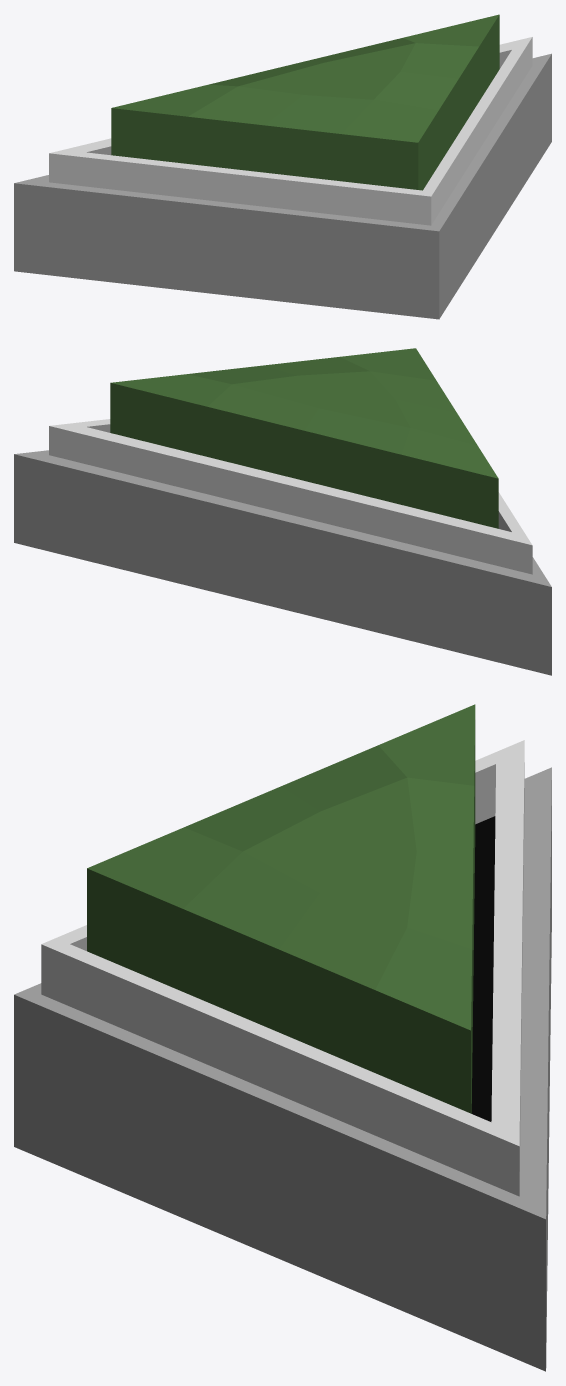
File: teste_botão_triangulo_anim1.fbx
3 renders of one model, top to bottom at view 1: azimuth 30°, elevation 25°; view 2: azimuth 150°, elevation 25°; view 3: azimuth 270°, elevation 25°, orthographic. The views are drawn at different scales.
Parts seen in each view (by area): view 1: pCube2, pCube1; view 2: pCube2, pCube1; view 3: pCube2, pCube1.
Part boxes in pixels (x1,y1,x2,y2): pCube2: [14, 37, 551, 319]; pCube1: [111, 14, 499, 190]; pCube2: [14, 419, 551, 675]; pCube1: [110, 348, 498, 528]; pCube2: [14, 740, 551, 1371]; pCube1: [87, 704, 475, 1113].
Bounding box in the file's own units: 9.83 × 3 × 4.94.
